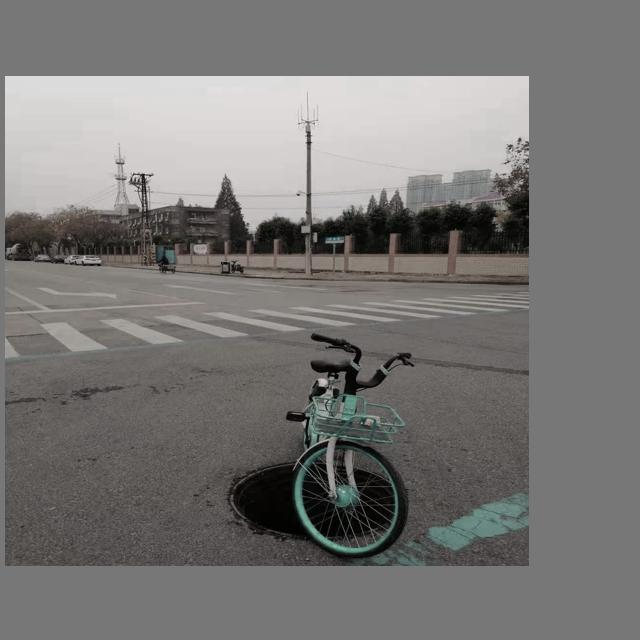lose: (231, 459, 402, 543)
